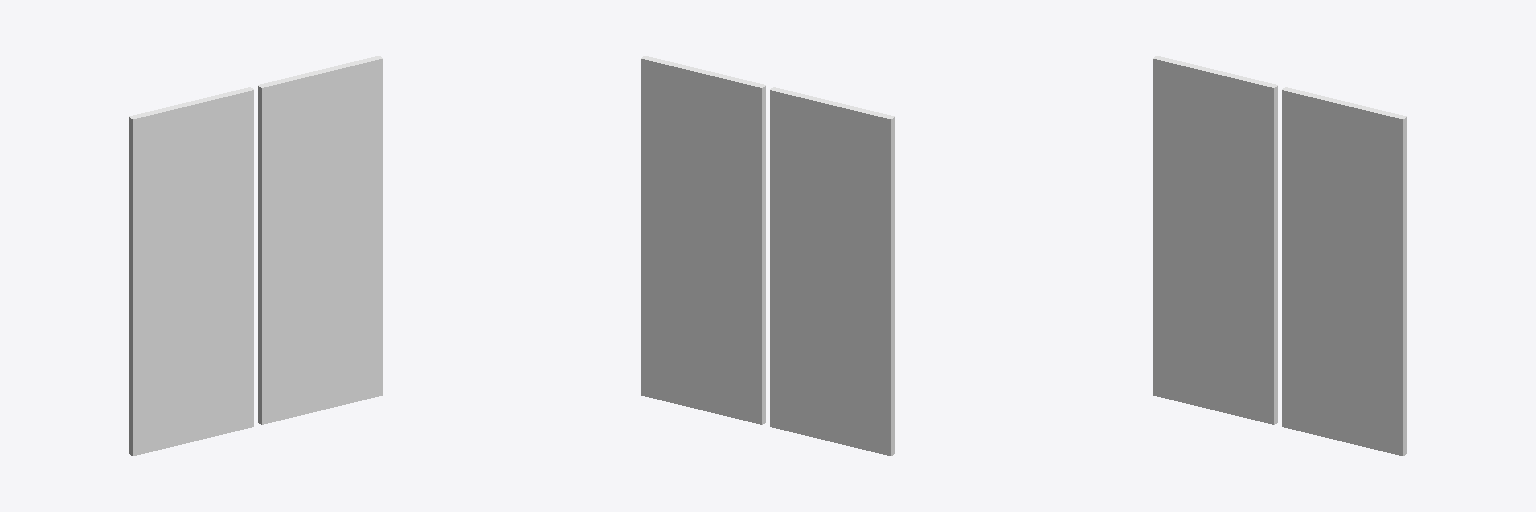
File: mart-5.obj
3 views of the same model, side by side, from view 1: azimuth 30°, elevation 25°; view 2: azimuth 150°, elevation 25°; view 3: azimuth 330°, elevation 25° (orthographic).
Parts seen in each view (by area): view 1: object 1; view 2: object 1; view 3: object 1.
Part boxes in pixels (bbox=[...]): object 1: bbox=[129, 56, 382, 455]; object 1: bbox=[641, 56, 894, 455]; object 1: bbox=[1153, 56, 1406, 455].
Bounding box in the file's own units: 3.5 × 4.5 × 0.1.